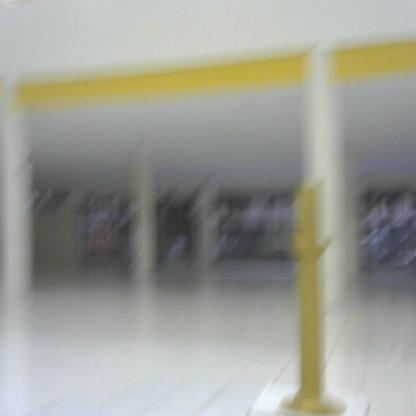pole: (272, 180, 353, 416)
